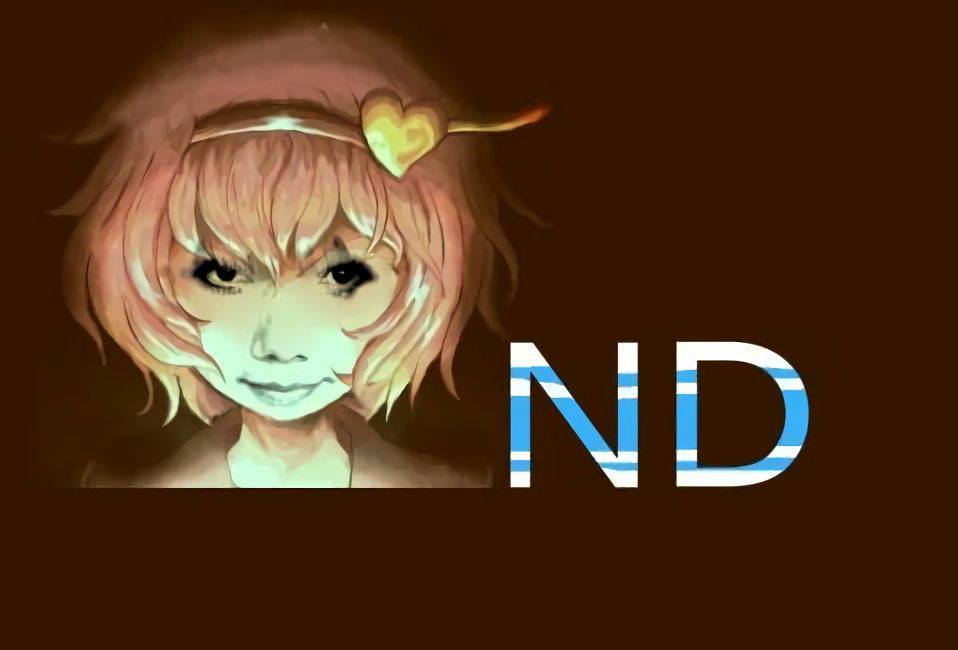dragon: (190, 246, 385, 413)
